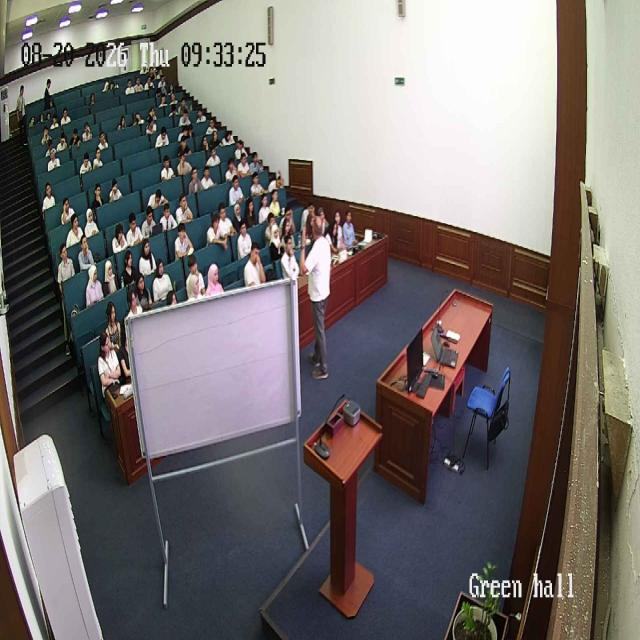person: (299, 213, 333, 379), (57, 245, 77, 348), (96, 331, 124, 401), (104, 300, 126, 362), (152, 256, 176, 305), (243, 241, 267, 287), (280, 233, 300, 283), (119, 249, 141, 293), (84, 264, 105, 309), (137, 236, 157, 281), (16, 84, 30, 148), (185, 255, 205, 296), (217, 204, 236, 247), (174, 222, 195, 260), (134, 273, 153, 312), (77, 231, 95, 271), (158, 200, 178, 235), (102, 260, 120, 298), (236, 220, 254, 258), (124, 284, 144, 318), (66, 212, 84, 249), (281, 211, 299, 248), (206, 211, 224, 247), (204, 264, 224, 296), (110, 221, 128, 256), (341, 211, 358, 248), (125, 213, 143, 247), (176, 194, 194, 228), (226, 173, 244, 207), (331, 215, 347, 253), (205, 140, 225, 170), (141, 207, 158, 242), (256, 194, 274, 226), (42, 182, 58, 217), (60, 196, 77, 228), (184, 273, 204, 300), (202, 159, 215, 200), (84, 207, 100, 240), (244, 198, 260, 230), (267, 188, 283, 220), (43, 76, 55, 118), (187, 163, 202, 196), (90, 182, 106, 212), (269, 220, 283, 254), (160, 158, 176, 187), (231, 200, 245, 233), (320, 209, 334, 241), (269, 166, 286, 192), (107, 178, 123, 205), (154, 125, 170, 152), (176, 156, 190, 186), (78, 152, 94, 178), (250, 170, 266, 196), (202, 138, 217, 164), (46, 152, 62, 176), (224, 148, 240, 172), (176, 132, 190, 158), (92, 146, 106, 172), (196, 129, 211, 153), (236, 154, 252, 176), (251, 149, 264, 176), (96, 130, 110, 154), (234, 136, 248, 160), (56, 126, 69, 151), (302, 198, 311, 234), (154, 75, 170, 93), (117, 110, 130, 132), (81, 119, 92, 143), (204, 116, 216, 138), (145, 119, 160, 136), (124, 79, 136, 99), (143, 74, 154, 94), (41, 128, 53, 146), (223, 131, 237, 146), (61, 108, 71, 128), (71, 122, 81, 142), (49, 116, 61, 132), (166, 100, 178, 116), (178, 108, 188, 126), (145, 104, 156, 120), (132, 109, 142, 125), (197, 106, 207, 122), (178, 93, 188, 108), (169, 90, 178, 106), (133, 74, 142, 90), (158, 94, 168, 107), (91, 94, 97, 106)
